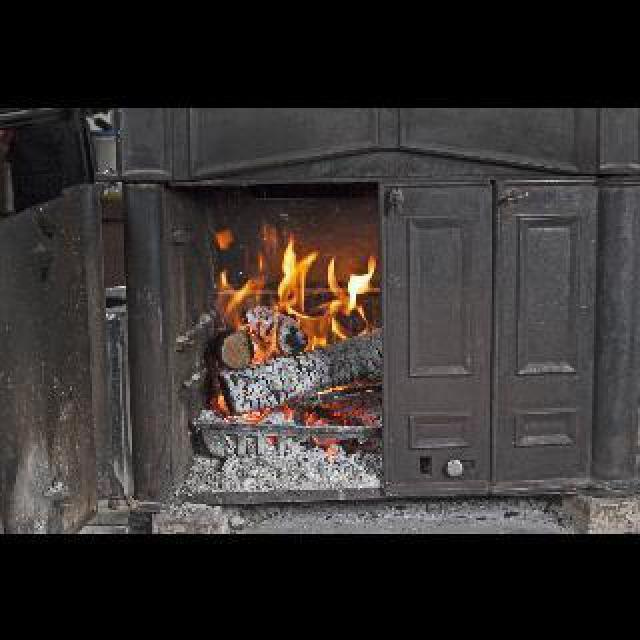Fire: (224, 242, 377, 352)
